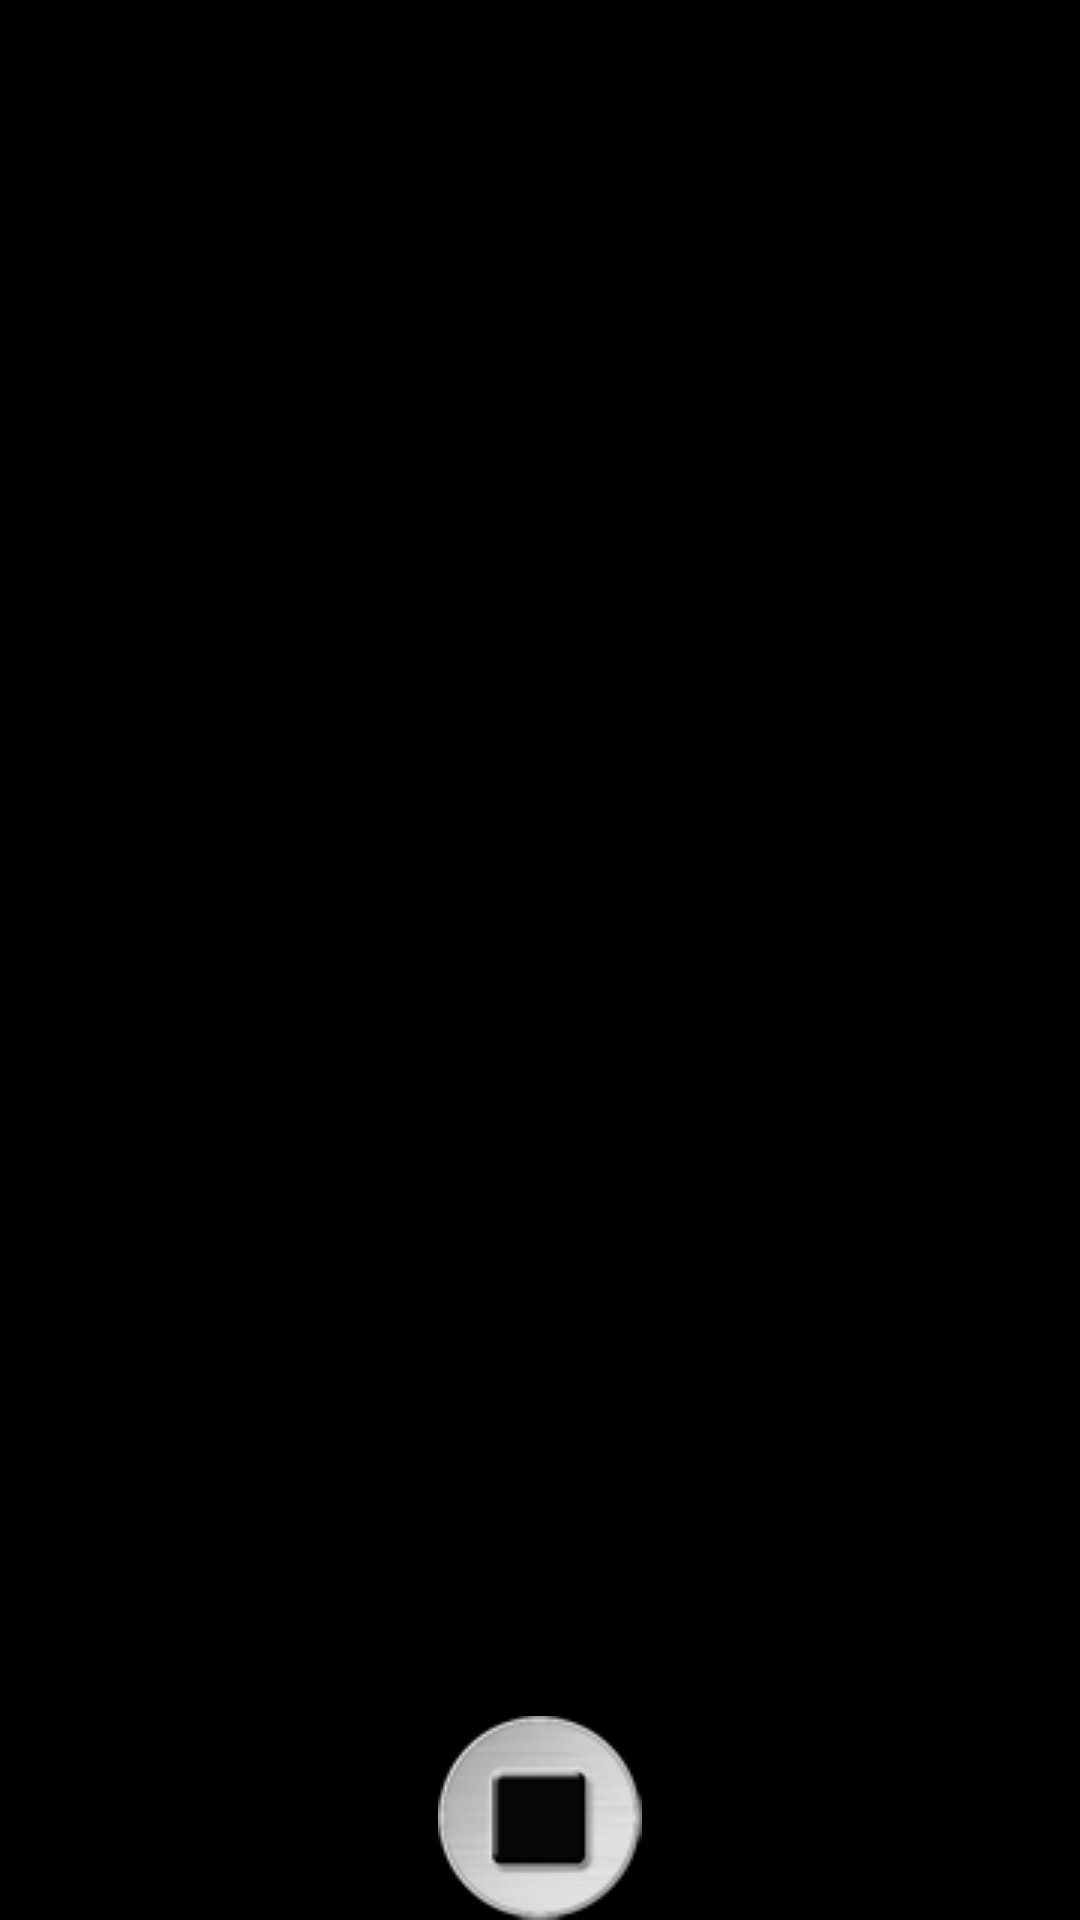

Icons on this 1080px x 1920px Android screen, each with the point to tap as point (x, y):
btnstop: point (540, 1818)
